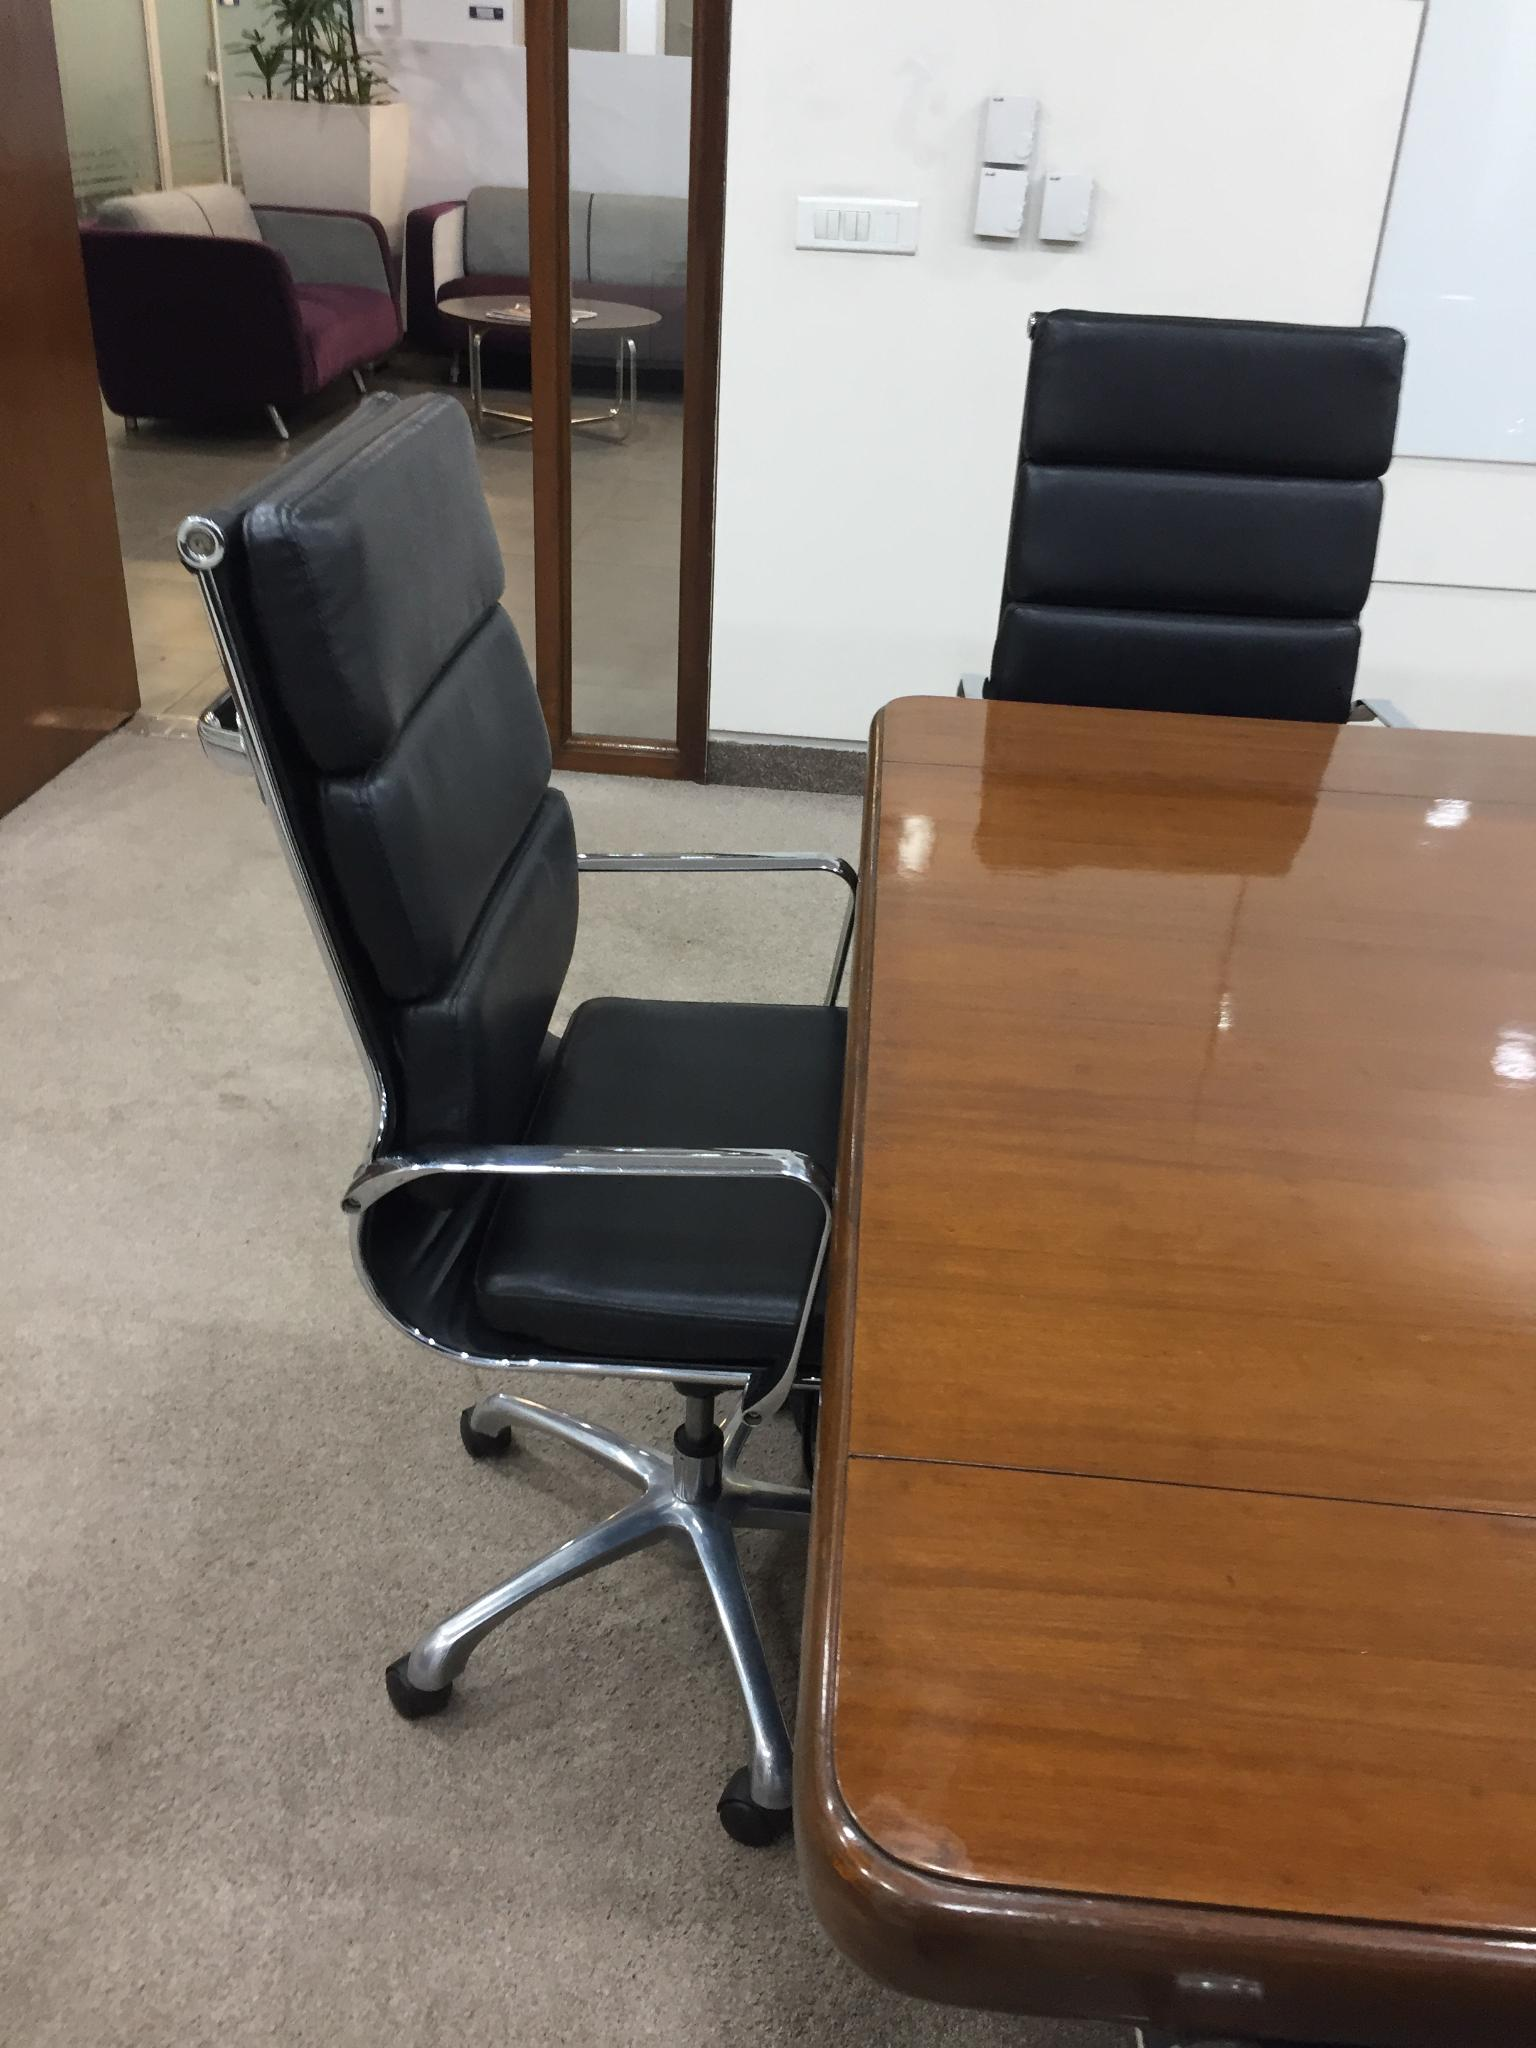chair: (174, 389, 860, 1846), (955, 305, 1407, 724)
